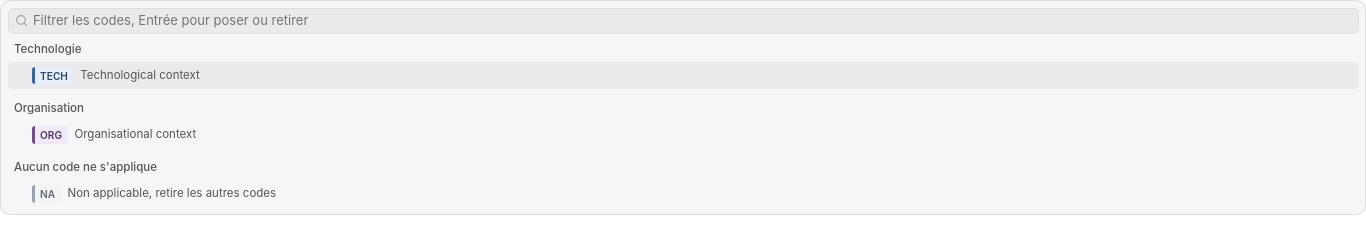
Test: CodePicker › filters by label as you type
This screenshot has width=1366, height=232.
Type "organis" into the dropdown with placeholder "Filtrer les codes, Entrée pour poser ou retirer". click: [693, 20]
box: [28,11,1358,30]
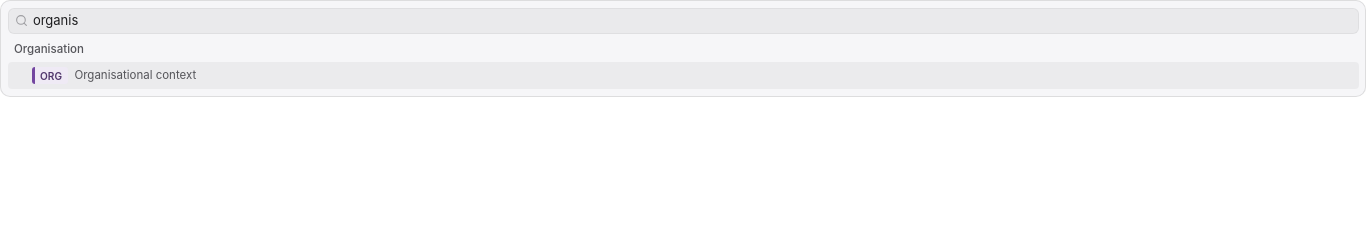
Expected: the text "Organisational context" is shown, [74,68,196,83]
Expected: the option "Technological context" is gone
